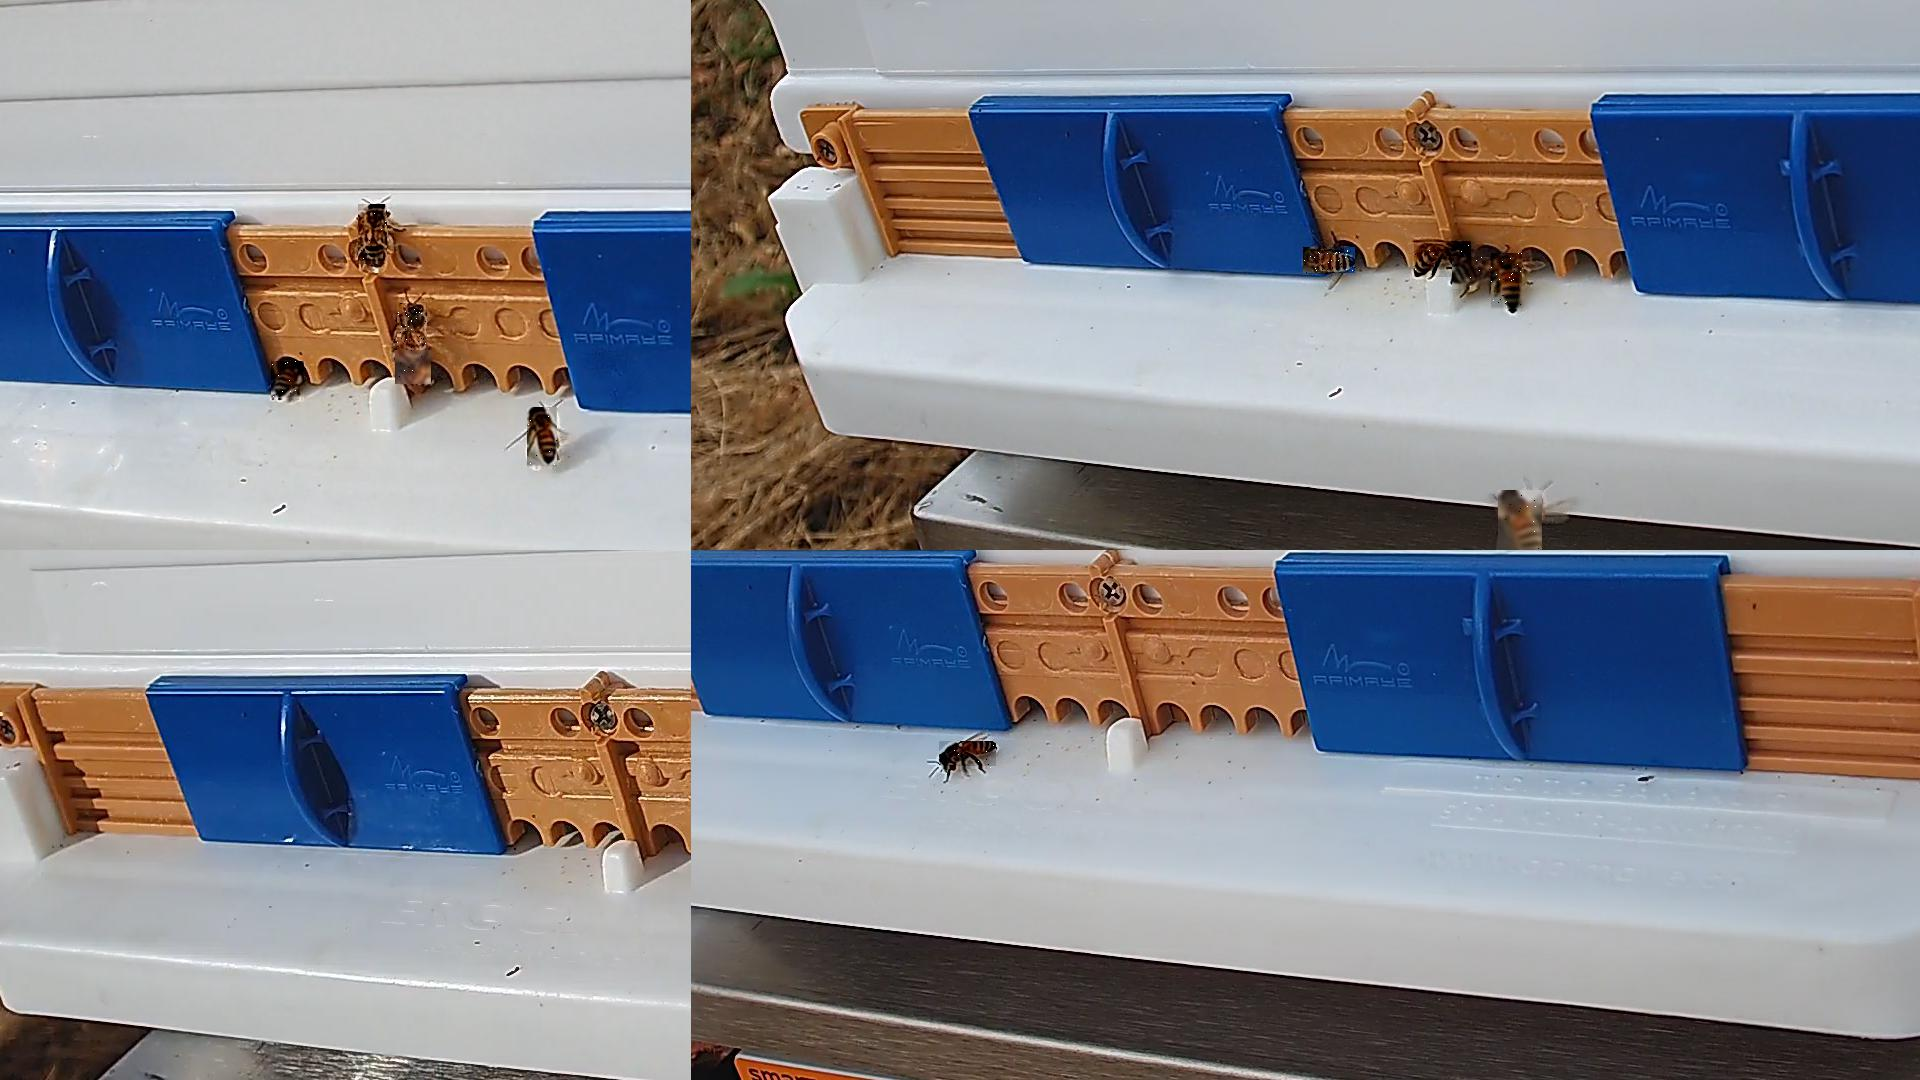bee: (1497, 491, 1544, 549), (1414, 241, 1472, 278), (359, 204, 388, 265), (939, 741, 997, 770), (397, 303, 429, 355), (1303, 247, 1356, 274), (396, 349, 433, 385)
pollenbee: (527, 407, 558, 469), (1491, 255, 1523, 313), (1452, 258, 1501, 290), (272, 361, 305, 401)
